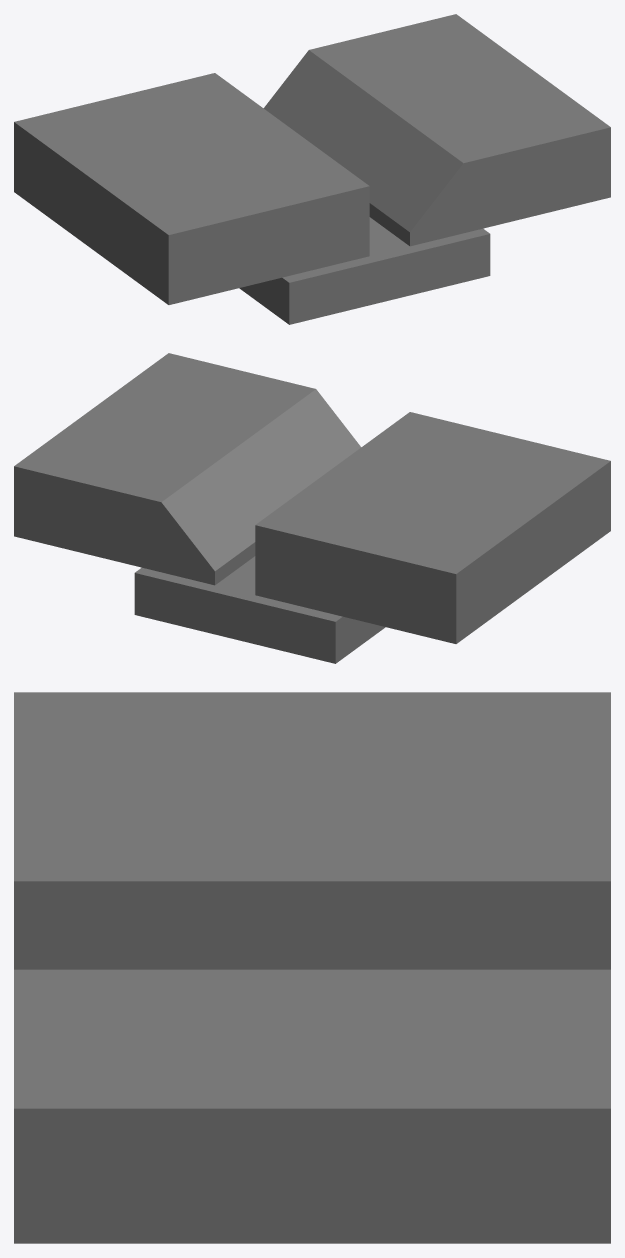
Rendered from С10_Кромки.glb.
3 renders of one model, top to bottom at view 1: azimuth 30°, elevation 25°; view 2: azimuth 150°, elevation 25°; view 3: azimuth 270°, elevation 25°, orthographic. The views are drawn at different scales.
Parts seen in each view (by area): view 1: node_id3; view 2: node_id3; view 3: node_id3.
Boxes of the visible parts, x1=… form: node_id3: x1=14, y1=14, x2=610, y2=324; node_id3: x1=14, y1=353, x2=610, y2=663; node_id3: x1=14, y1=692, x2=610, y2=1243.
Size of the model in its own units: 0.512 by 0.1319 by 0.3103.
1 material, 1 textured.
